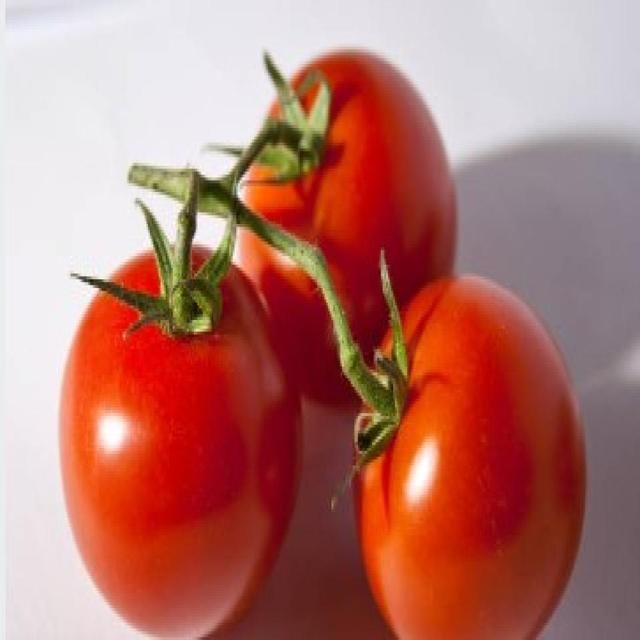Healthy Fruit: (122, 132, 321, 306)
